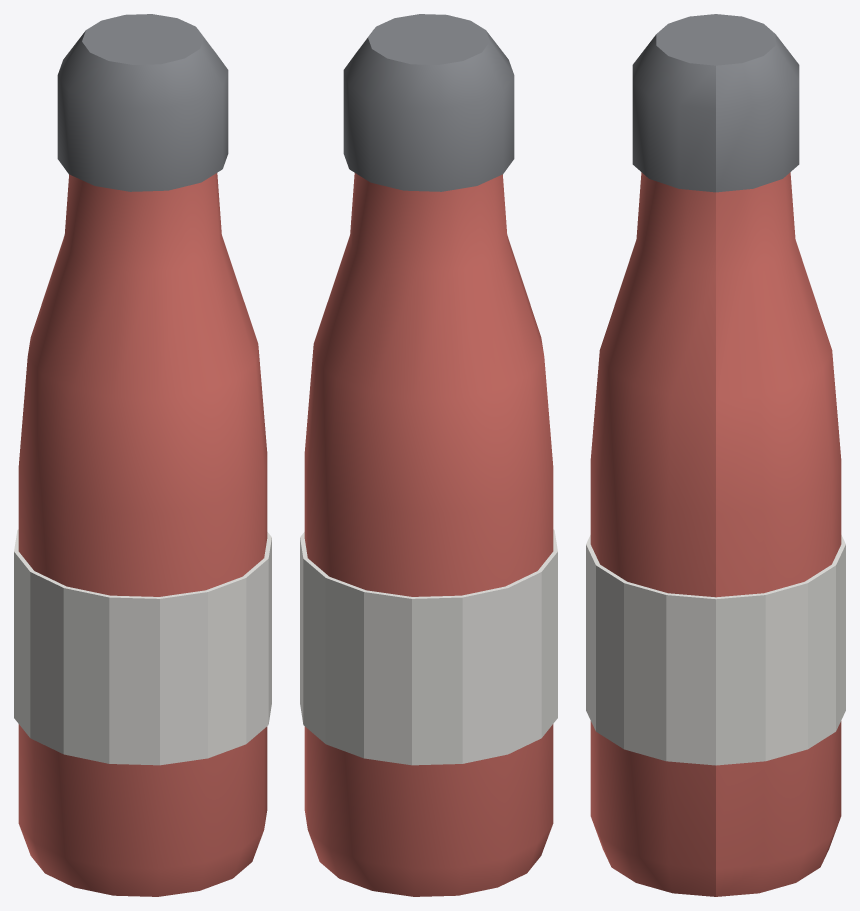
The model's file is water_bottle.glb.
3 renders of one model, left to right at view 1: azimuth 30°, elevation 25°; view 2: azimuth 150°, elevation 25°; view 3: azimuth 270°, elevation 25°, orthographic.
Visible parts, largest first — view 1: water-bottle; view 2: water-bottle; view 3: water-bottle.
Boxes of the visible parts, box(x1,y1,x2,y2) form: water-bottle: box(14, 14, 271, 896); water-bottle: box(300, 14, 557, 896); water-bottle: box(586, 14, 845, 896).
Size of the model in its own units: 0.085 by 0.292 by 0.085.
